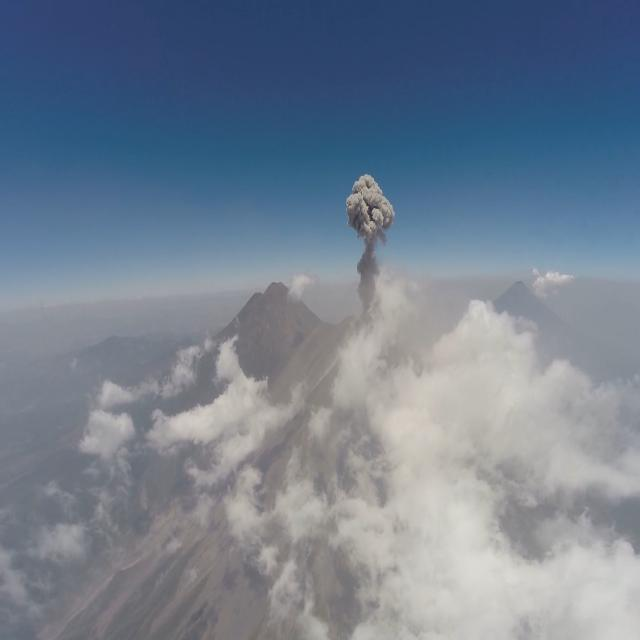Plume: (346, 170, 394, 316)
